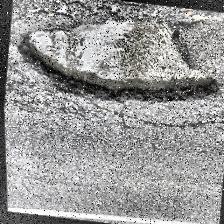pothole: (12, 2, 224, 114)
